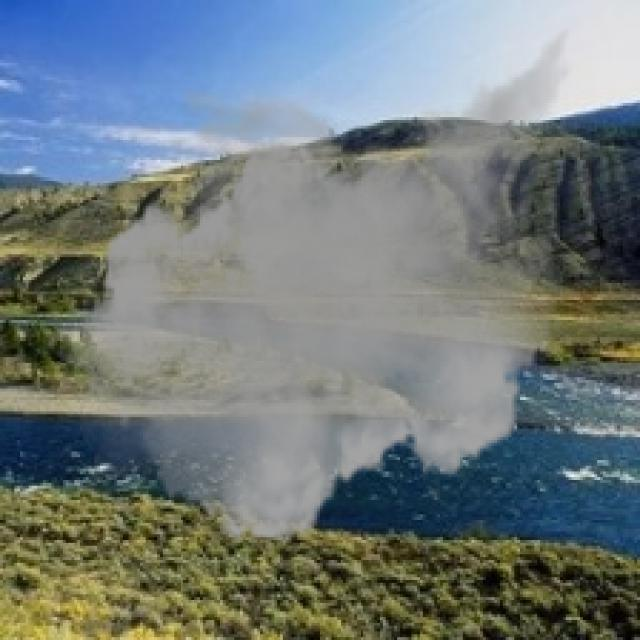smoke: (43, 0, 583, 557)
